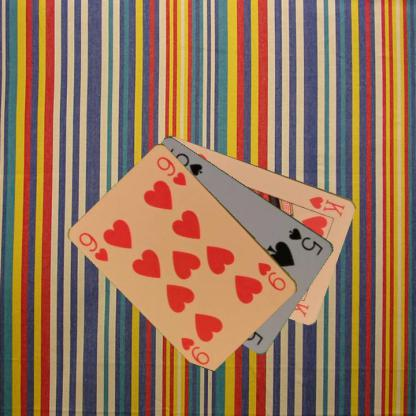5s: (286, 224, 325, 256)
9h: (76, 229, 110, 263), (255, 260, 288, 292)
Kh: (306, 193, 347, 218)
